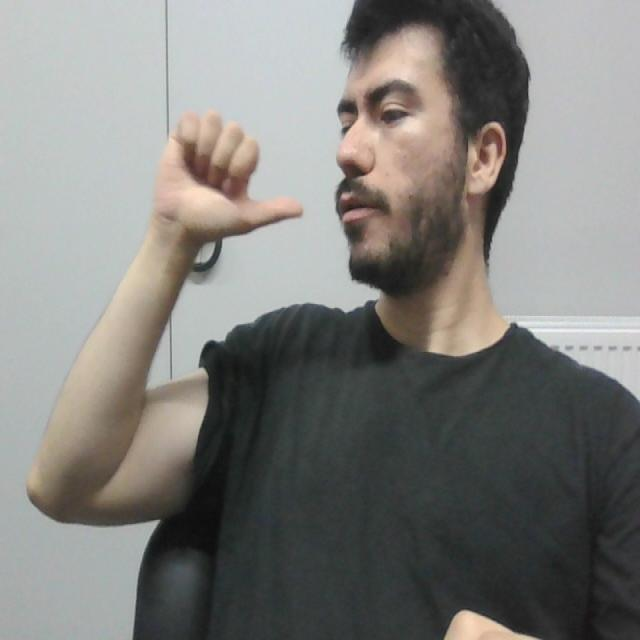icmek: (136, 106, 358, 242)
